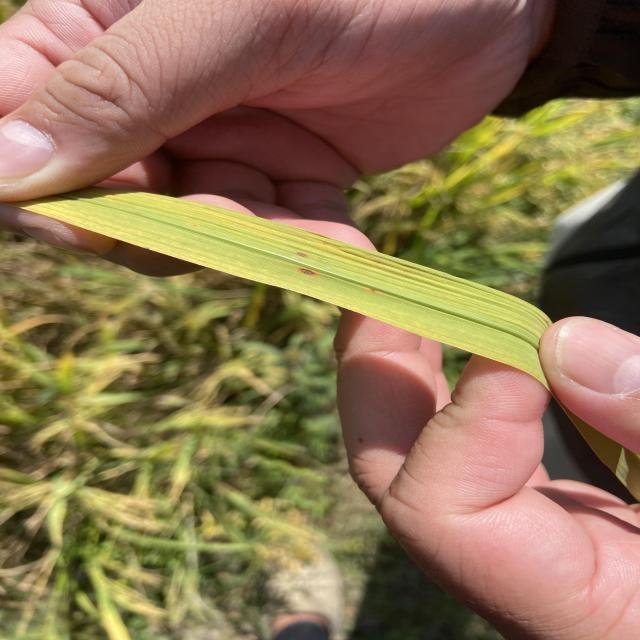Dom nau: (297, 268, 315, 275), (296, 252, 307, 257), (370, 289, 375, 291)
